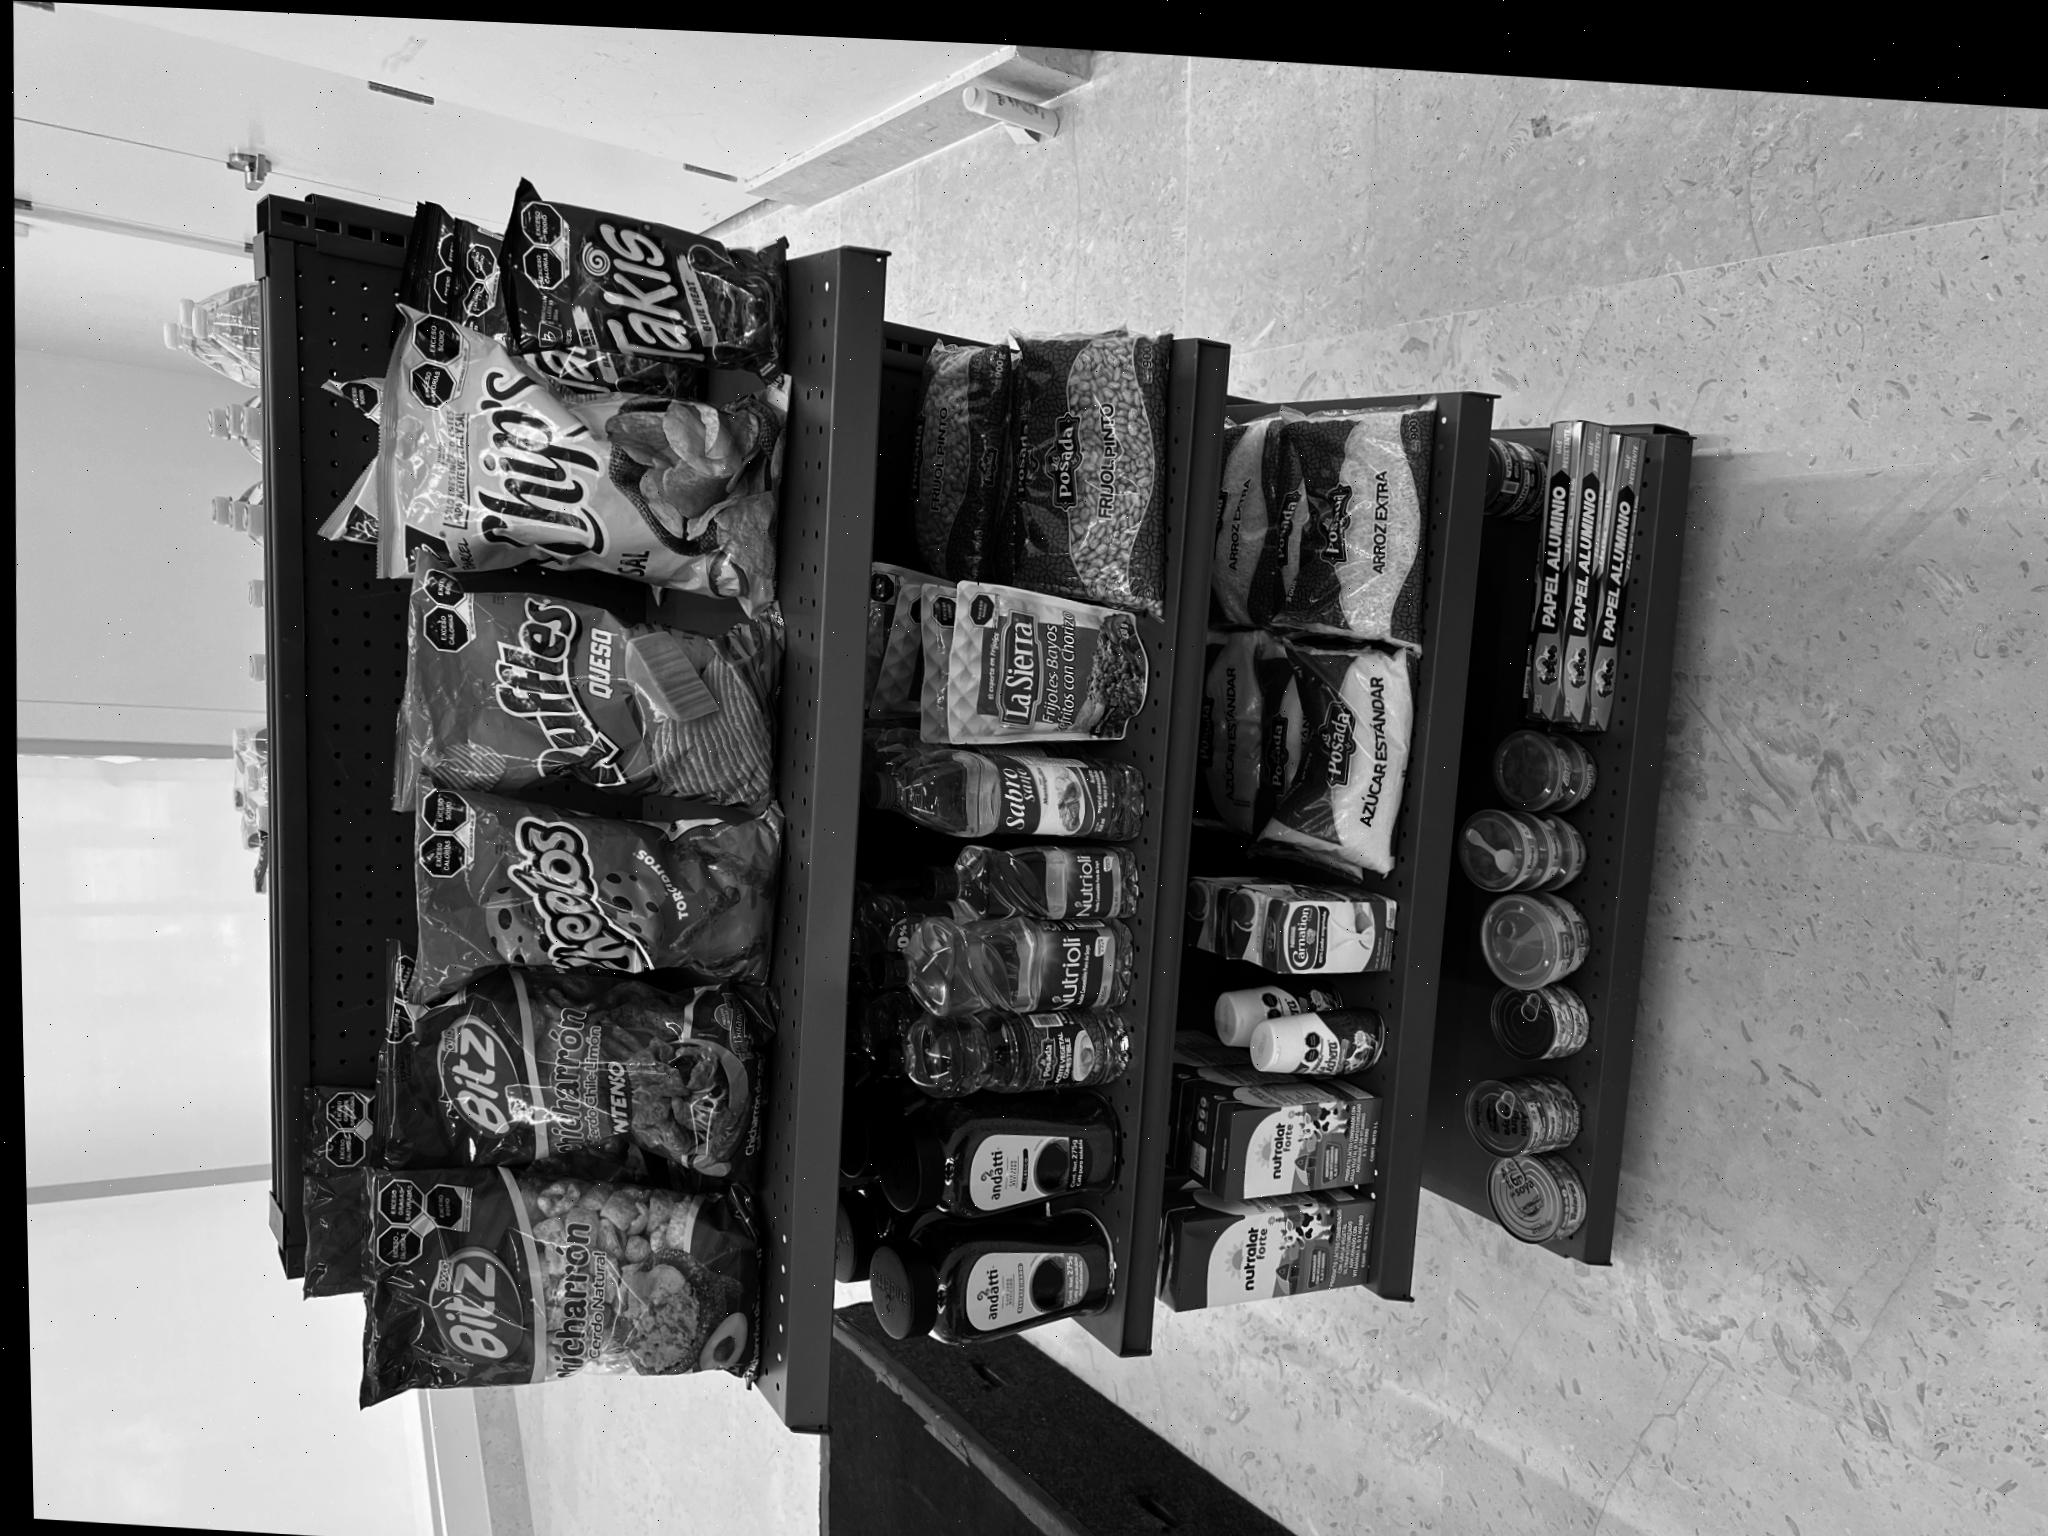aceite_nutrioli_400ml: (681, 934, 756, 1150)
aceite_nutrioli_850ml: (589, 881, 684, 1134)
aceite_posada: (498, 879, 592, 1126)
aceite_saborsano: (753, 881, 845, 1155)
andatti: (376, 883, 495, 1102), (252, 873, 371, 1091)
arroz_laposada: (992, 1304, 1216, 1465)
atun_dolores_blanco: (648, 1486, 740, 1536)
atun_dolores_masdos: (387, 1473, 474, 1536)
atun_dolores_naranja: (739, 1467, 822, 1536)
atun_dolores_normal: (477, 1463, 556, 1536)
atun_mazatun: (572, 1488, 645, 1536)
atun_mazatun_verde: (826, 1509, 900, 1536)
azucar_laposada: (779, 1283, 974, 1433)
carnation: (642, 1278, 727, 1405)
cheetos: (582, 423, 772, 787)
chicharron_bitz_intenso: (393, 366, 590, 774)
chicharron_bitz_natural: (147, 334, 397, 736)
chips_sal: (998, 416, 1198, 828)
frijol_laposada: (1022, 1041, 1269, 1210)
frijol_lasierra: (850, 971, 1003, 1165)
lalechera: (545, 1262, 606, 1379)
leche_nutralatforte: (326, 1154, 414, 1357), (416, 1217, 529, 1373)
ruffles: (772, 418, 966, 803)
takis: (1218, 560, 1348, 837)
